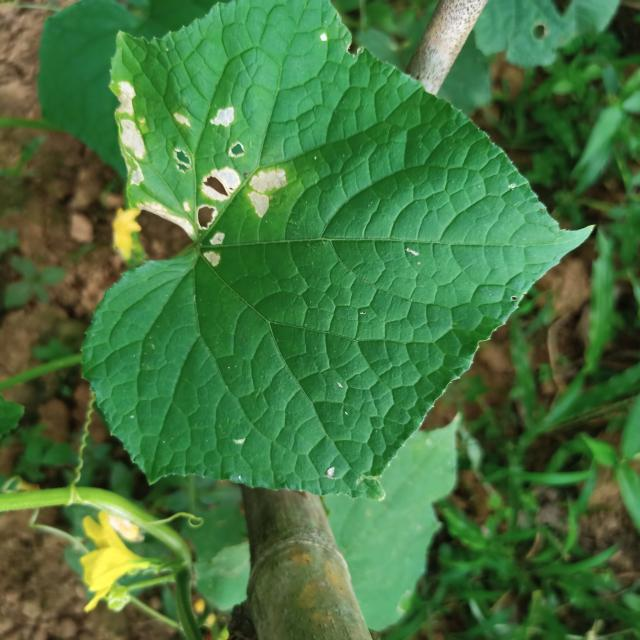disease_cucumber: (117, 80, 286, 266)
